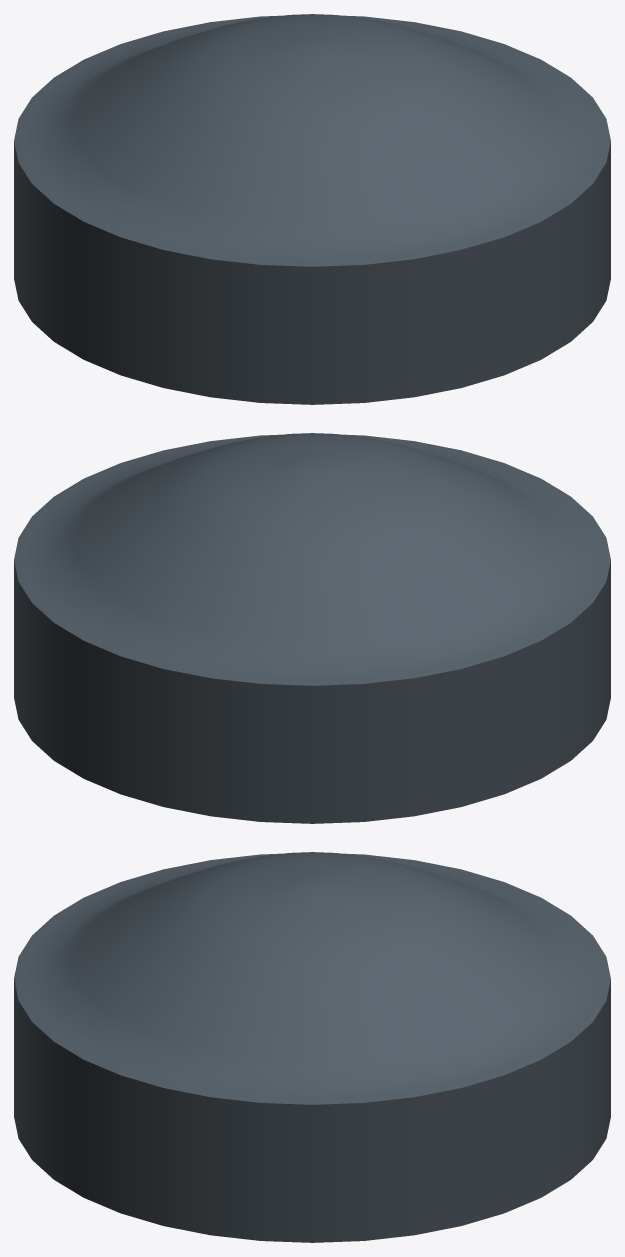
Rendered from romanhou_stage_1.fbx.
3 views of the same model, one above another, from view 1: azimuth 30°, elevation 25°; view 2: azimuth 150°, elevation 25°; view 3: azimuth 270°, elevation 25° (orthographic).
Visible parts, largest first — view 1: Dome_outside; view 2: Dome_outside; view 3: Dome_outside.
Boxes of the visible parts, x1=… form: Dome_outside: x1=14, y1=14, x2=610, y2=404; Dome_outside: x1=14, y1=433, x2=610, y2=823; Dome_outside: x1=14, y1=852, x2=610, y2=1242.
Size of the model in its own units: 59.18 by 25.46 by 59.18.
